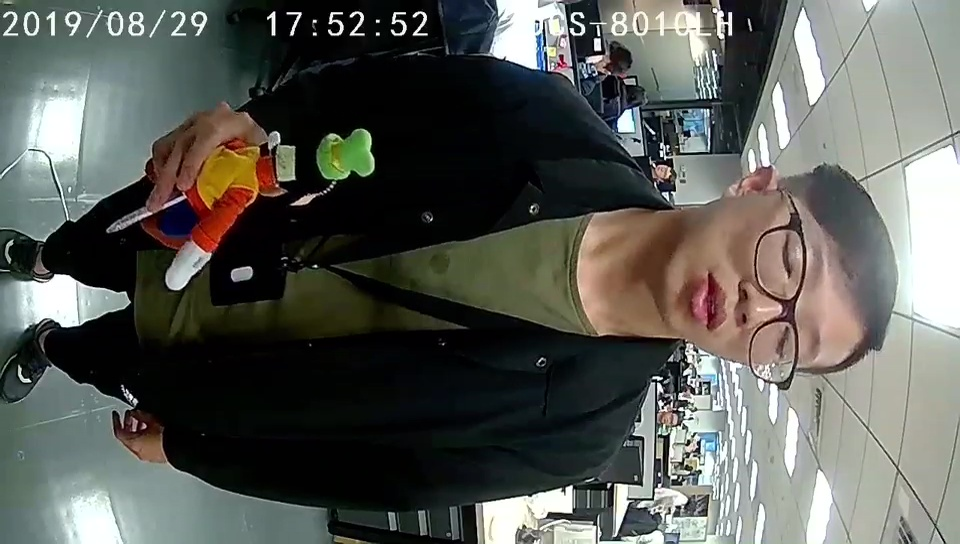goofy: (140, 125, 377, 289)
